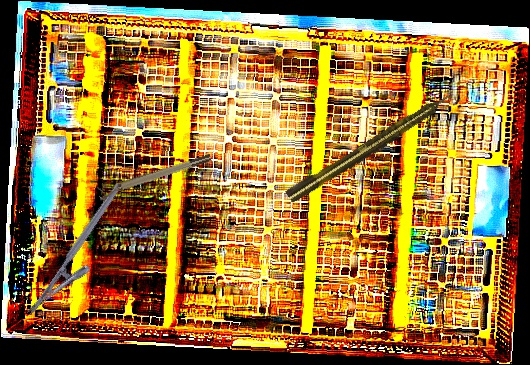Fixation Ring: (96, 152, 214, 202)
Handpiece: (283, 86, 459, 206)
Needle Holder: (25, 181, 141, 329)
